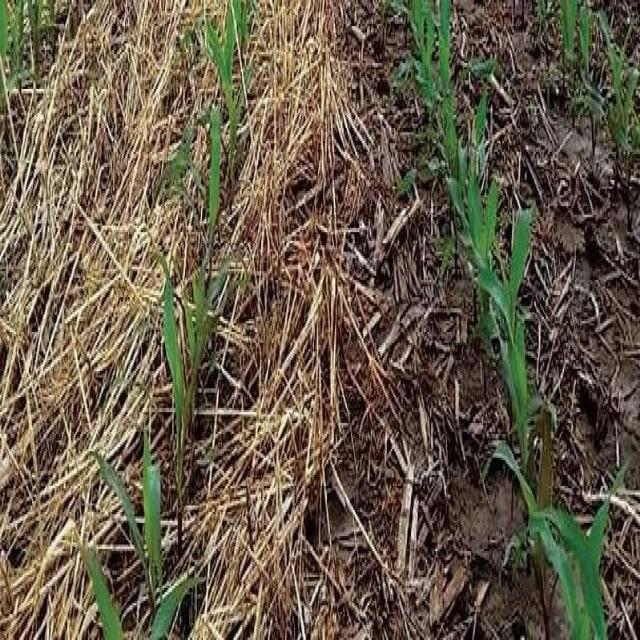row: (181, 0, 560, 640), (0, 0, 215, 640), (454, 0, 640, 640)
